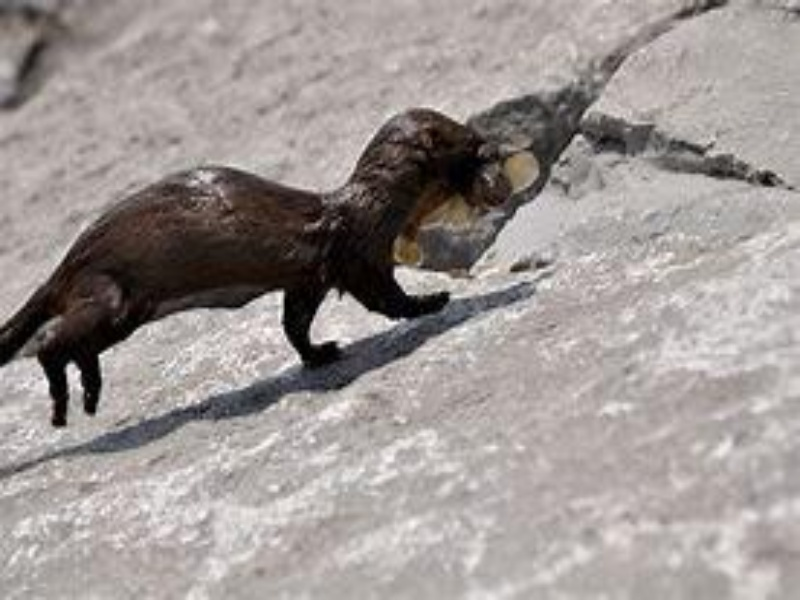minkish: (2, 103, 490, 438)
